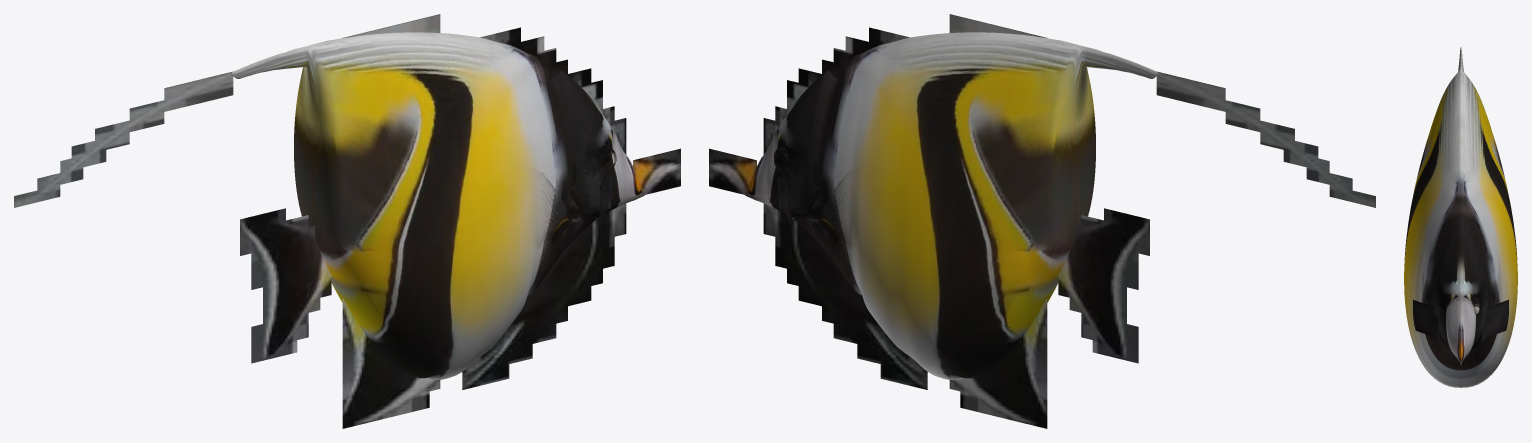
The model's file is real-zanclus_cornutus.glb.
The picture shows the model from 3 angles, left to right: view 1: azimuth 30°, elevation 25°; view 2: azimuth 150°, elevation 25°; view 3: azimuth 270°, elevation 25°; orthographic projection. The views are drawn at different scales.
Visible parts, largest first — view 1: zanclus_cornutus; view 2: zanclus_cornutus; view 3: zanclus_cornutus.
Part boxes in pixels (bbox=[...]): zanclus_cornutus: bbox=[14, 14, 680, 428]; zanclus_cornutus: bbox=[709, 14, 1375, 428]; zanclus_cornutus: bbox=[1404, 47, 1517, 387].
Size of the model in its own units: 0.2106 by 0.1182 by 0.0415.
1 material, 1 textured.
